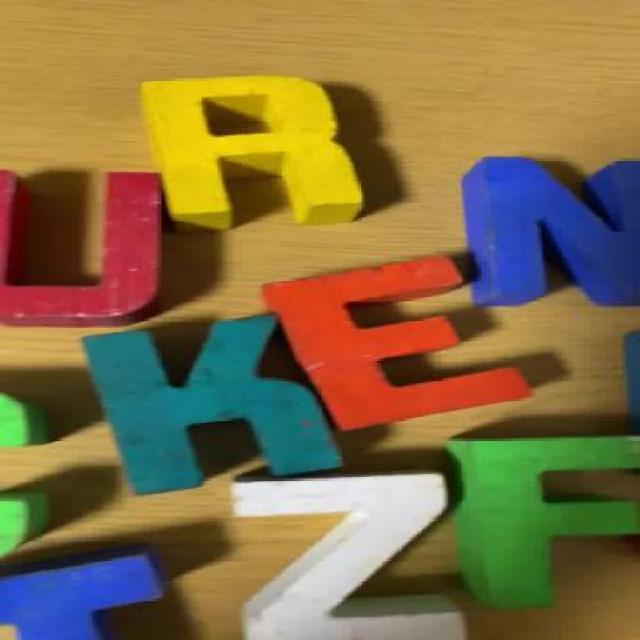E: (270, 255, 524, 430)
F: (432, 433, 639, 605)
K: (76, 318, 350, 492)
N: (432, 152, 639, 317)
R: (142, 69, 366, 242)
U: (0, 158, 169, 342)
Z: (219, 460, 473, 640)
